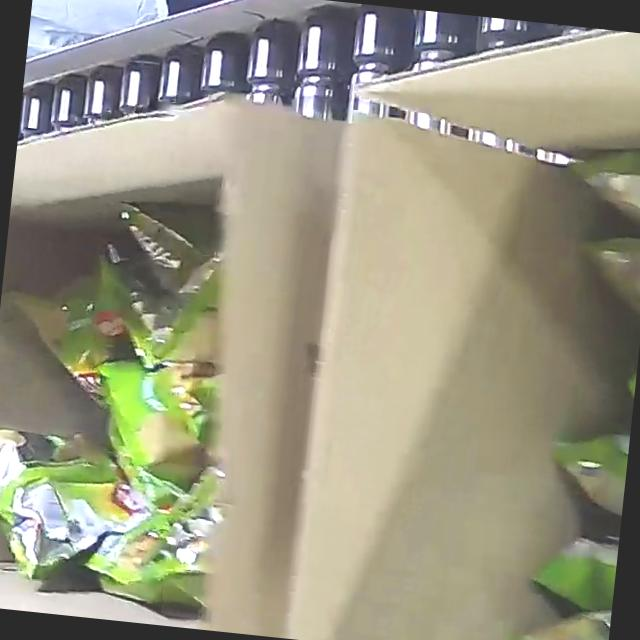yogurt: (0, 185, 254, 610), (449, 125, 640, 640)
